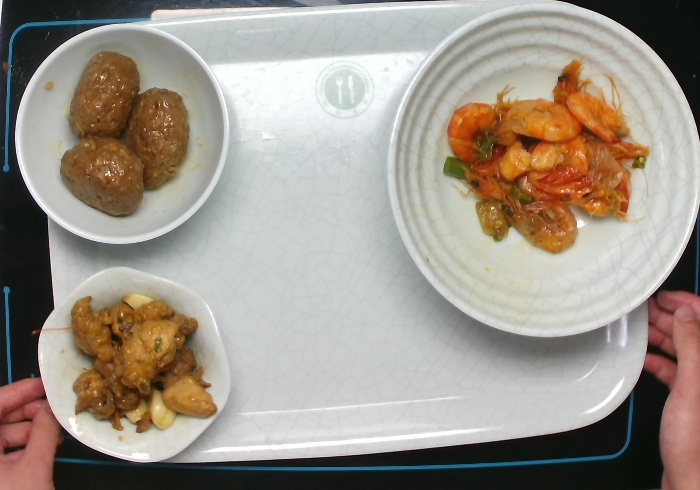JYsf-Da_Tang_Wan: (383, 1, 700, 345)
JYsf-Fan_Wan: (14, 20, 231, 247)
WCQzf-Hua_Duo_Wan: (34, 261, 234, 468)
